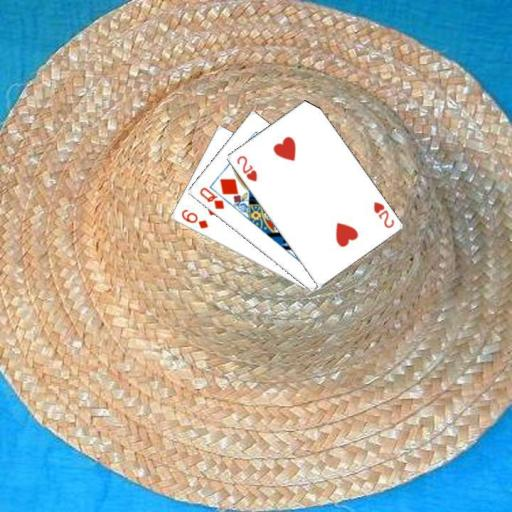2H: (370, 198, 395, 230), (233, 152, 258, 183)
6D: (178, 207, 210, 231)
QD: (197, 184, 226, 211)
